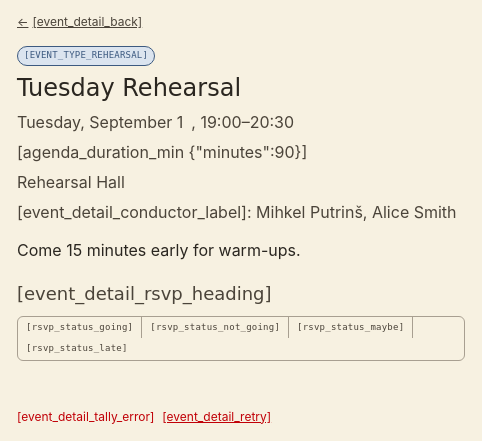
Test: /event/[id] — RSVP control while membership is still unresolved (#372 supersedes #102 review F2) › a write-time lookup that REJECTS fails safely — revert + save-failed, no POST ever issued
The image size is (482, 441).
Click the button with test id "rsvp-btn-going" at (80, 327), box [18,316,142,338]
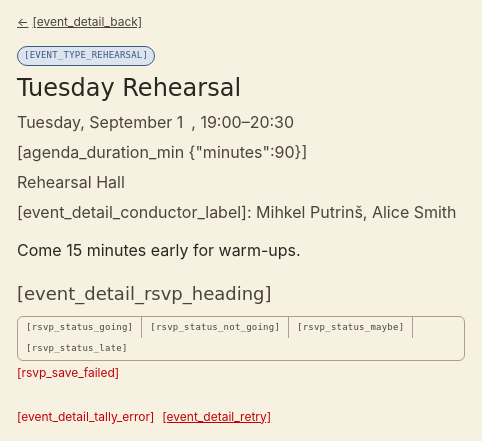
Result: the message "[rsvp_save_failed]" is shown at [17,364,119,380]
